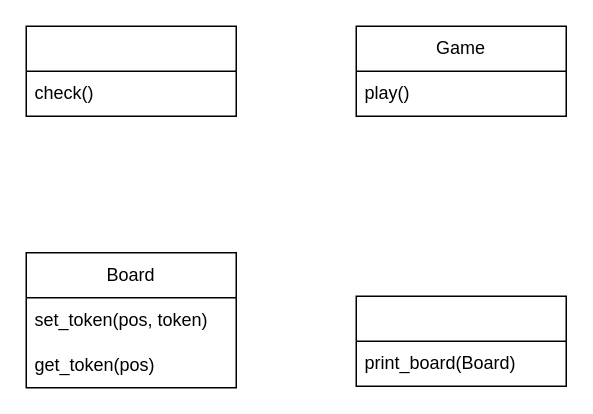
This 593x414 diagram has some shape labels left out. Each missing label, with the box of its shape:
Board Printer: (355, 295, 566, 386)
BoardChecker: (25, 25, 236, 116)
